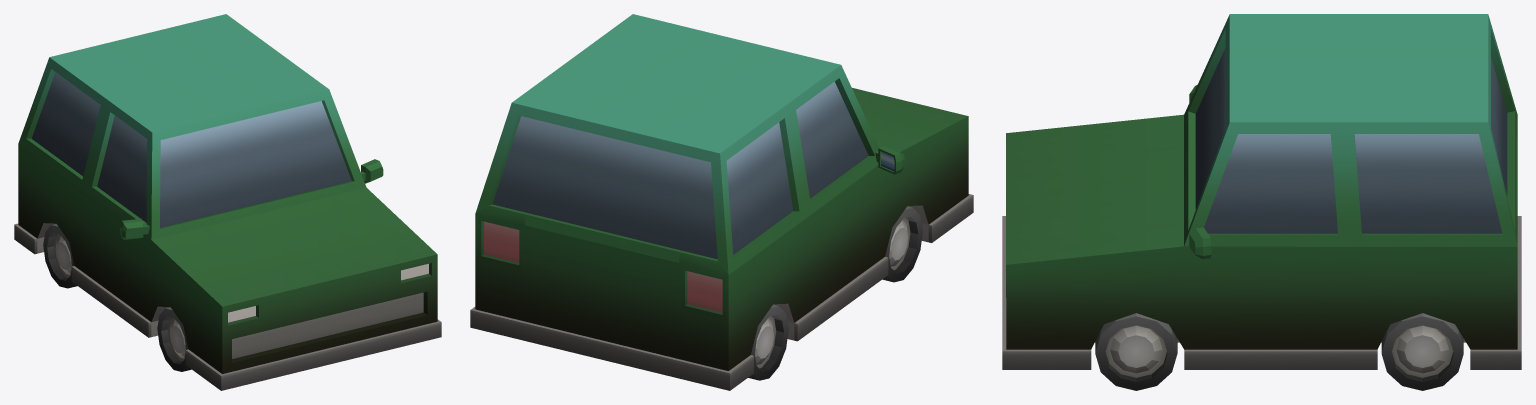
The model's file is Car_01_01_FBX.fbx.
The picture shows the model from 3 angles, left to right: view 1: azimuth 30°, elevation 25°; view 2: azimuth 150°, elevation 25°; view 3: azimuth 270°, elevation 25°; orthographic projection. The views are drawn at different scales.
Visible parts, largest first — view 1: pCube157; view 2: pCube157; view 3: pCube157.
Part boxes in pixels (box(x1,y1,x2,y2)): pCube157: box(14, 14, 441, 390); pCube157: box(470, 14, 973, 390); pCube157: box(1002, 14, 1521, 390).
Bounding box in the file's own units: 236 × 180 × 327.
